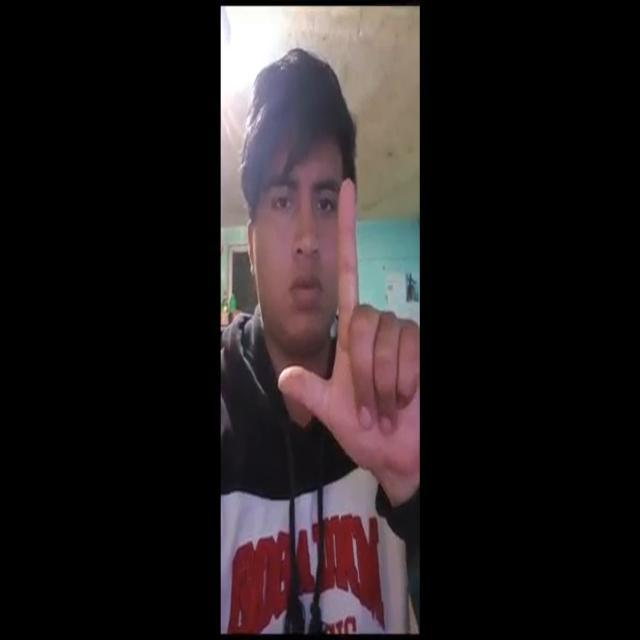L: (279, 162, 424, 474)
